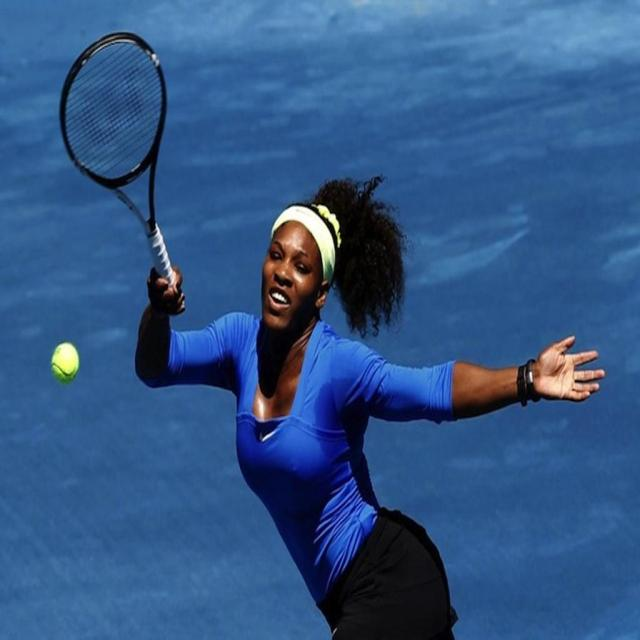Face: (257, 222, 329, 332)
